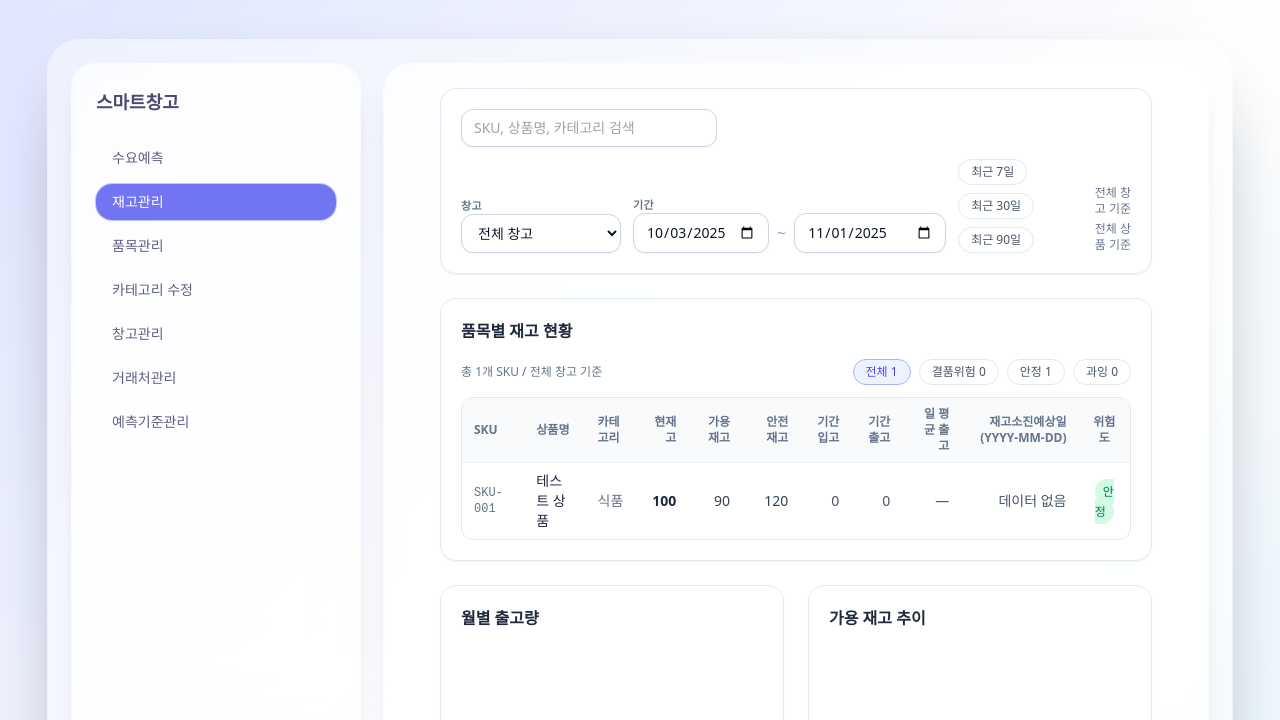
it: DeepflowDashboard partner management › shows supplier list and opens create modal from partner tab
Click the button "거래처관리".
click(216, 378)  # box [96,360,336,396]
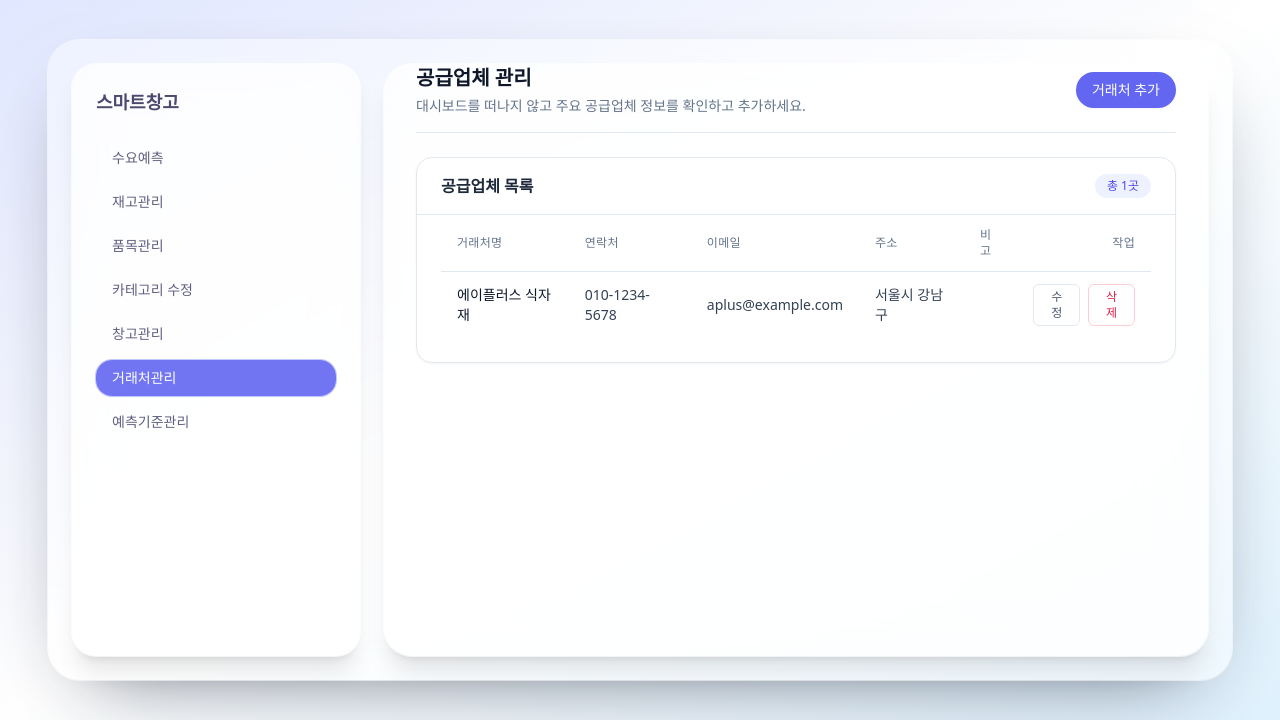
Expected: the table named "공급업체 목록" is shown, [441,215,1151,338]
Expected: the text "에이플러스 식자재" is shown, [441,272,569,338]
Click the button "거래처 추가".
click(1126, 90)  # box [1076,72,1176,108]
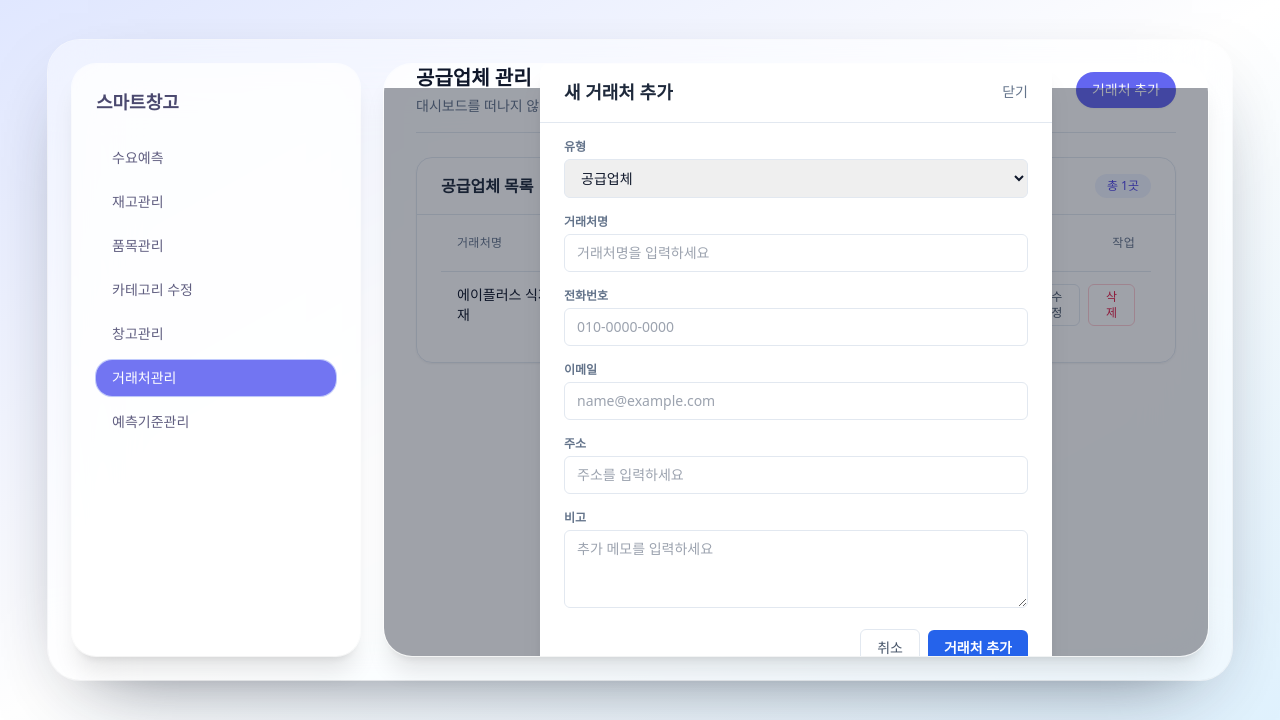
Expected: the heading "새 거래처 추가" is shown, [564,78,673,106]
